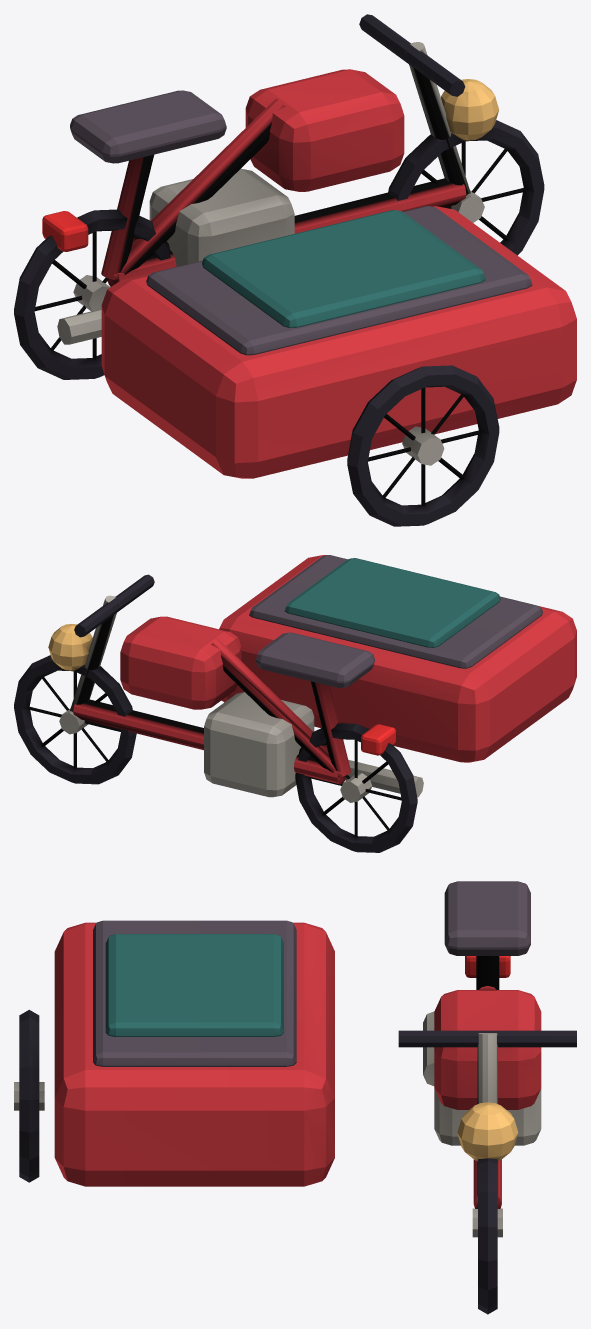
The model's file is veh.courier-motorbike.glb.
3 renders of one model, top to bottom at view 1: azimuth 30°, elevation 25°; view 2: azimuth 150°, elevation 25°; view 3: azimuth 270°, elevation 25°, orthographic. The views are drawn at different scales.
Parts seen in each view (by area): view 1: object 8, body, sidecar_wheel, wheel_rear, wheel_front, lightsFront, handlebar, lightsBrake; view 2: object 8, body, wheel_front, wheel_rear, lightsFront, handlebar, lightsBrake; view 3: object 8, body, sidecar_wheel, wheel_front, handlebar, lightsFront.
Part boxes in pixels (bbox=[...]): object 8: bbox=[101, 206, 576, 478]; body: bbox=[57, 42, 470, 344]; sidecar_wheel: bbox=[347, 365, 499, 526]; wheel_rear: bbox=[14, 209, 170, 379]; wheel_front: bbox=[388, 120, 544, 255]; lightsFront: bbox=[441, 79, 498, 140]; handlebar: bbox=[359, 14, 465, 96]; lightsBrake: bbox=[42, 211, 88, 251]; object 8: bbox=[219, 555, 576, 762]; body: bbox=[70, 595, 423, 797]; wheel_front: bbox=[14, 655, 136, 784]; wheel_rear: bbox=[295, 723, 417, 852]; lightsFront: bbox=[48, 624, 92, 670]; handlebar: bbox=[74, 574, 154, 637]; lightsBrake: bbox=[361, 724, 395, 755]; object 8: bbox=[54, 920, 334, 1186]; body: bbox=[423, 881, 541, 1208]; sidecar_wheel: bbox=[14, 1009, 44, 1182]; wheel_front: bbox=[472, 1158, 502, 1314]; handlebar: bbox=[398, 1030, 576, 1047]; lightsFront: bbox=[457, 1102, 518, 1161].
Size of the model in its own units: 2.38 by 1.09 by 2.21.
